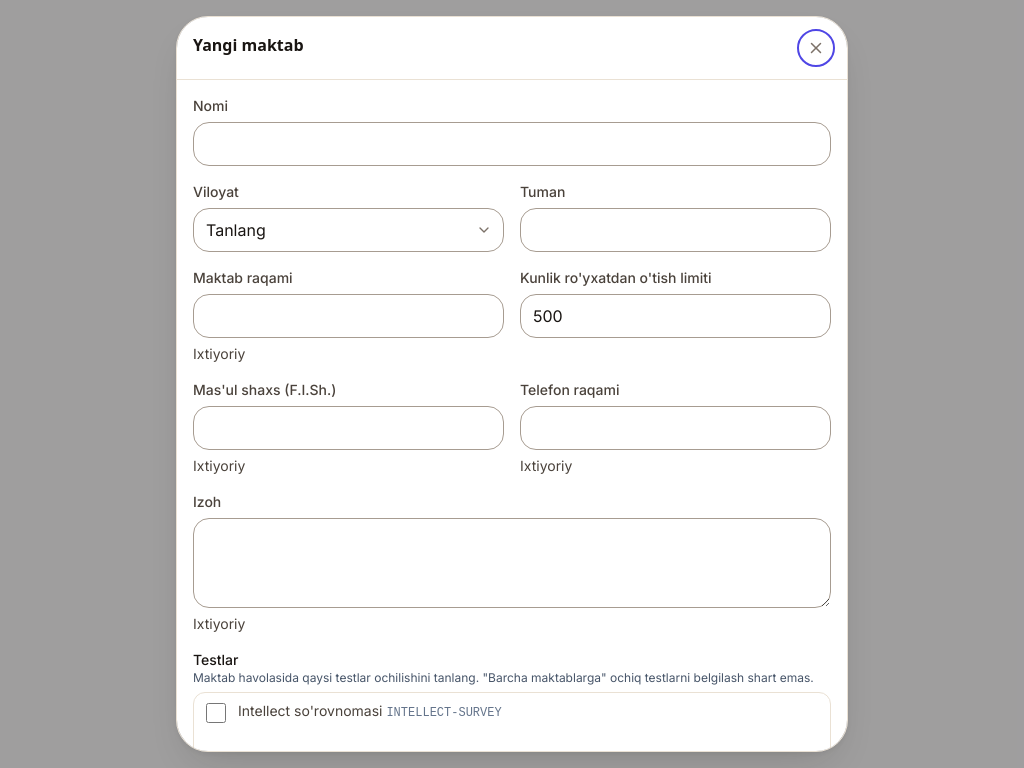
Test: SchoolFormDialog › yaratish: barcha maydonlar bor, to'ldirilgach POST ketadi va oyna yopiladi
Expected: the dropdown labelled "Viloyat" is shown, [193,208,504,252]
Expected: the field labelled "Tuman" is shown, [520,208,831,252]
Type "12-son maktab" into the field labelled "Nomi" at [512, 144], box [193,122,831,166]
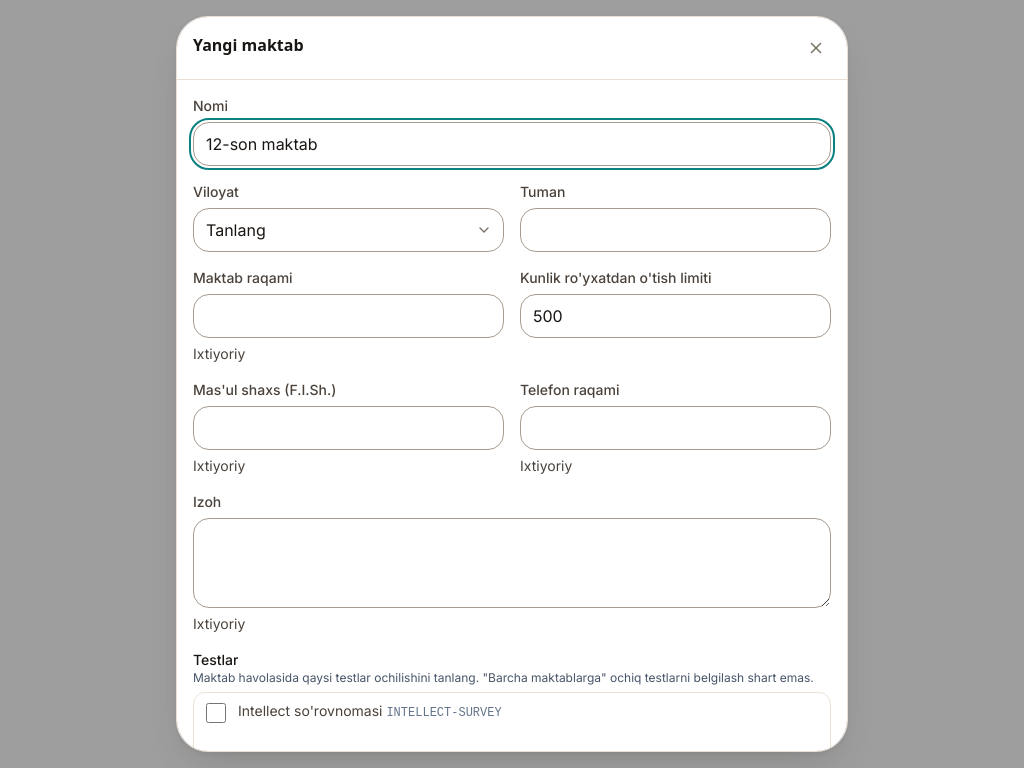
Select "Farg'ona" in the dropdown labelled "Viloyat" at [348, 230], box [193,208,504,252]
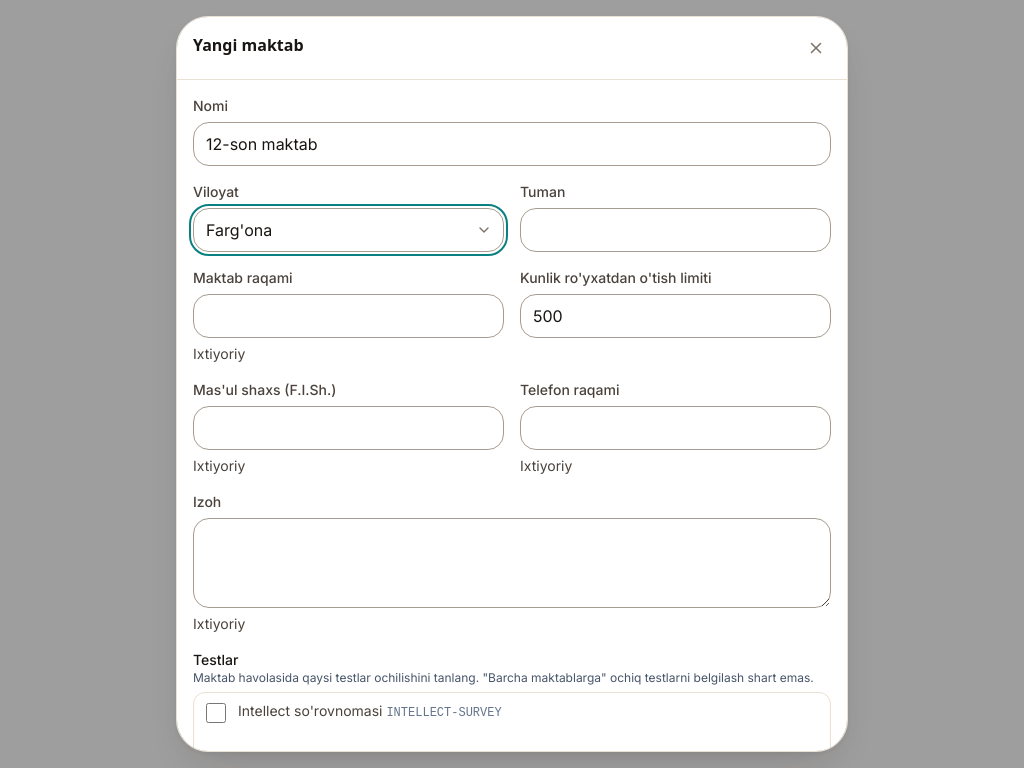
Type "Qo'qon" into the field labelled "Tuman" at [676, 230], box [520,208,831,252]
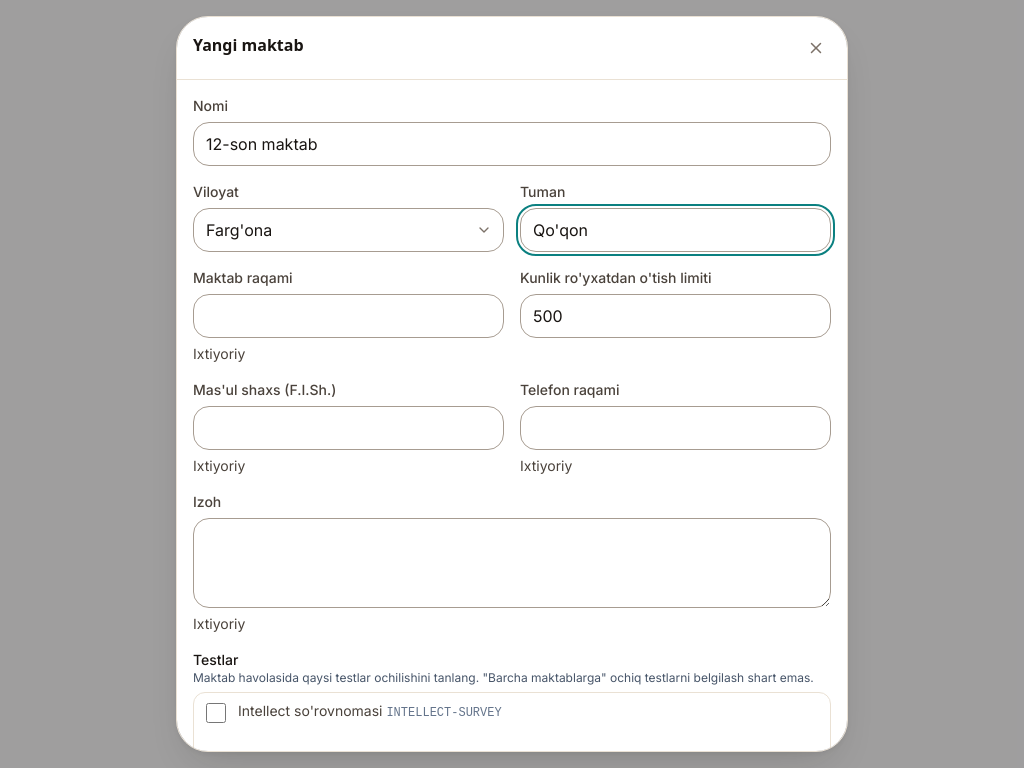
Type "12" into the field labelled "Maktab raqami" at [348, 316], box [193,294,504,338]
(page scrolled)
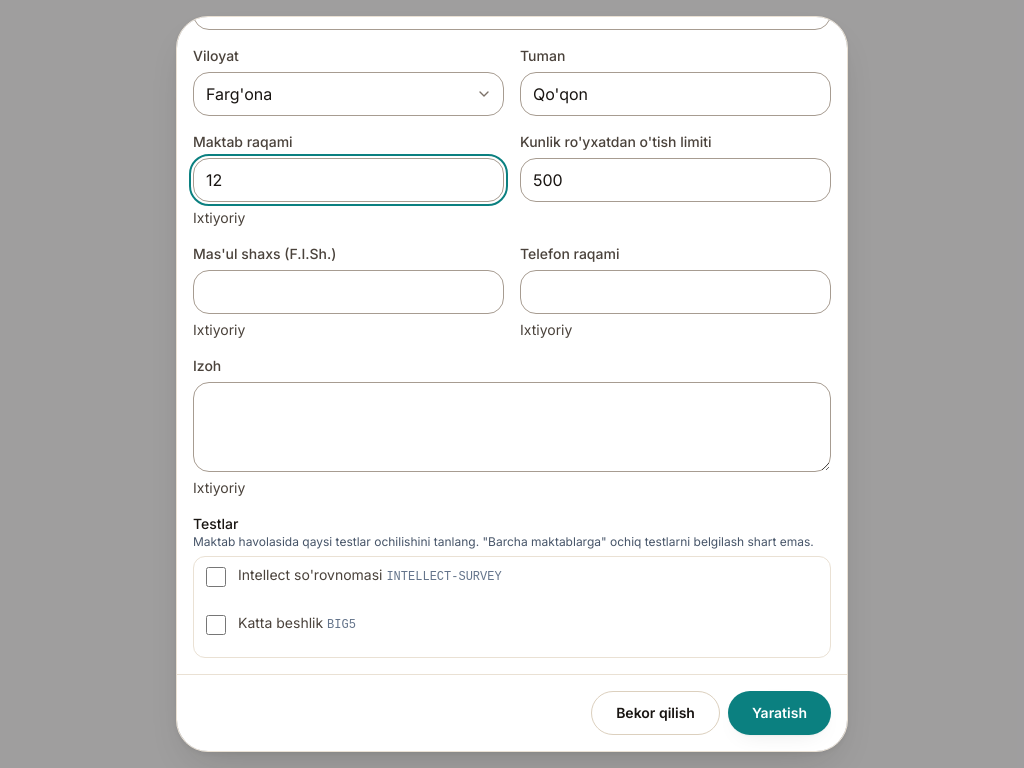
Click the button "Yaratish" at [779, 713], box [728,691,831,735]
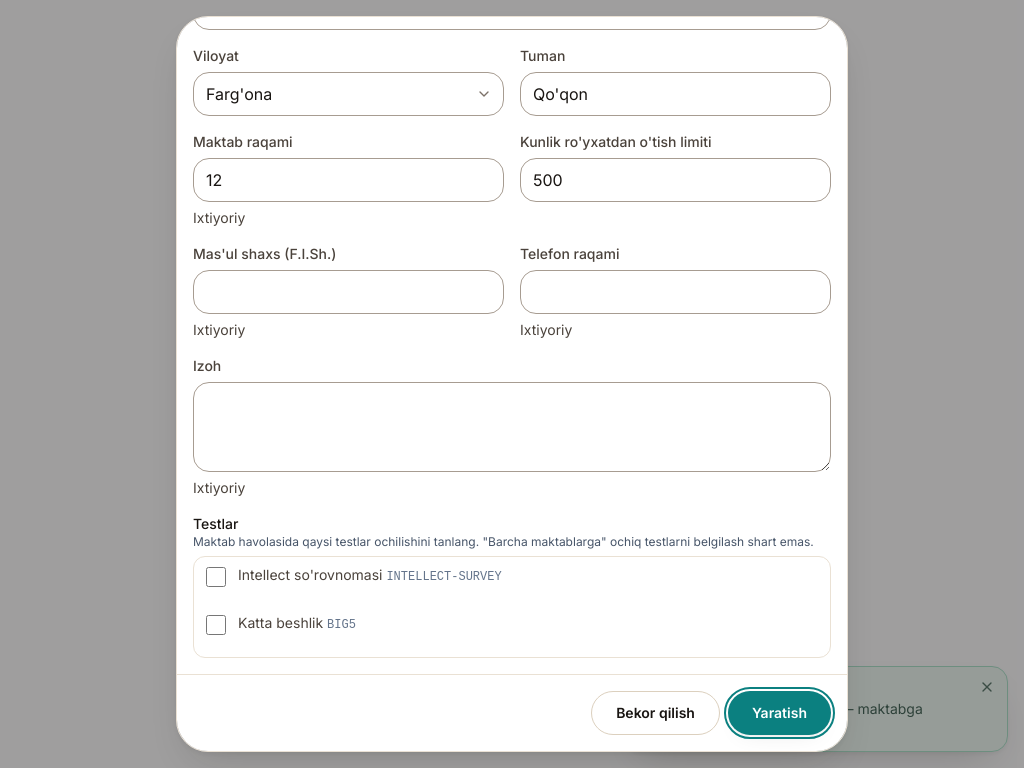
Expected: the text "Maktab yaratildi" is shown, [667,680,774,697]
